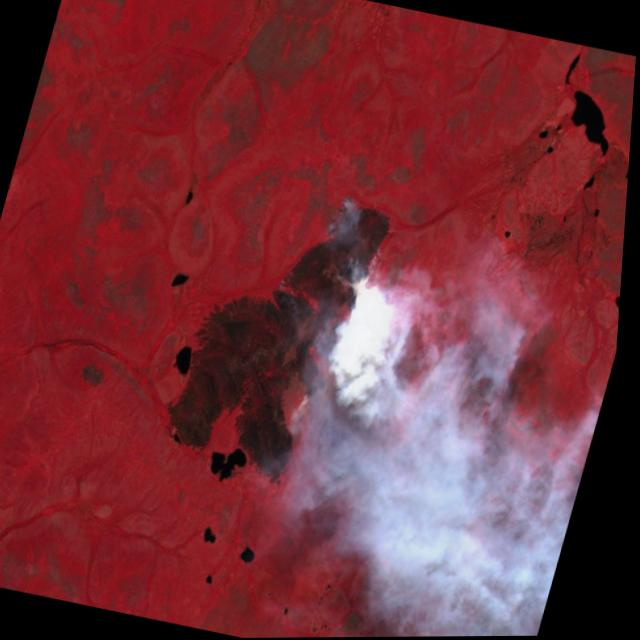fire: (274, 189, 417, 420)
